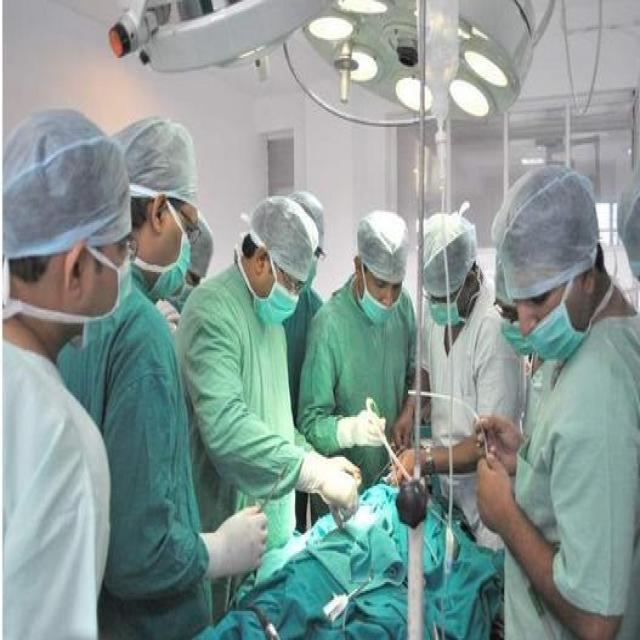hairnet: (510, 302, 590, 369), (359, 284, 400, 326)
